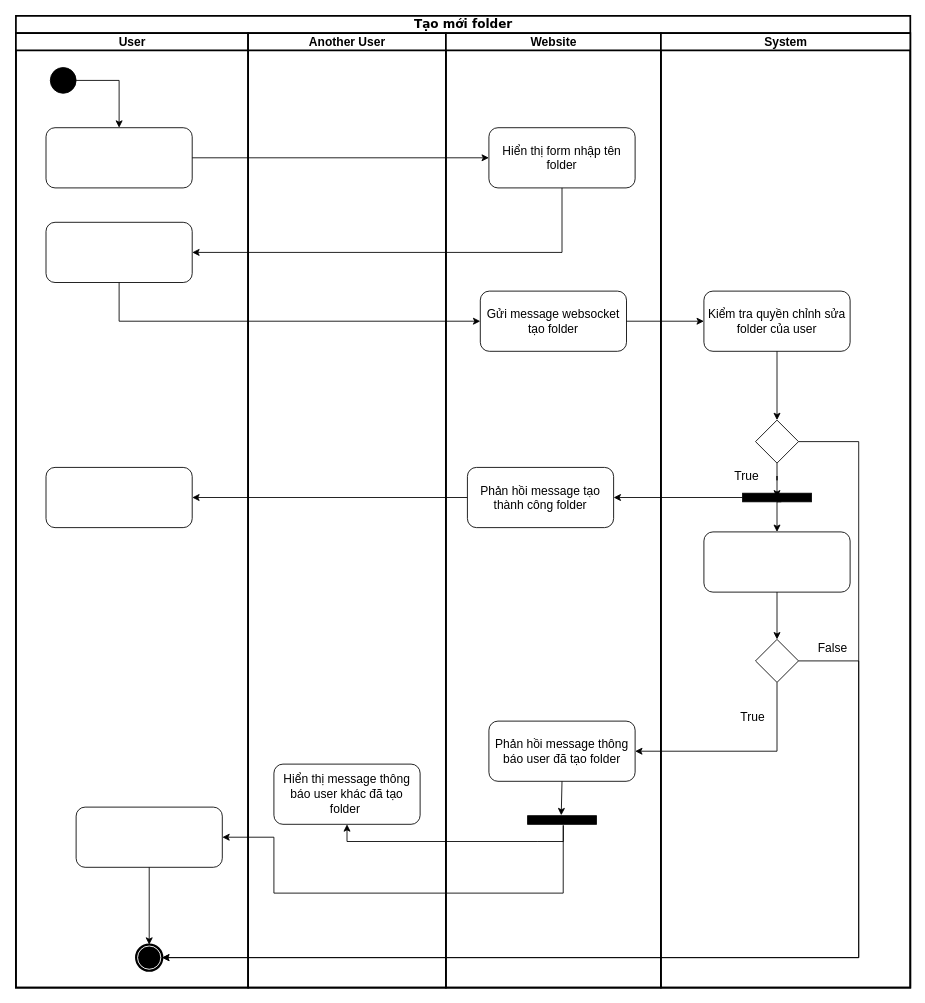
Some shapes in this 925 by 1003 pixel diagram are drawn without their labels. Each missing label, with the centre of its shape:
"Click tạo thư mục mới" belongs at (x=118, y=157).
"Hiển thị message tạo folder thành công" belongs at (x=148, y=836).
"Hiển thị message tạo thành công folder" belongs at (x=118, y=497).
"Kiểm tra quyền các user trong websocket" belongs at (x=776, y=561).
"Nhập tên folder" belongs at (x=118, y=252).
